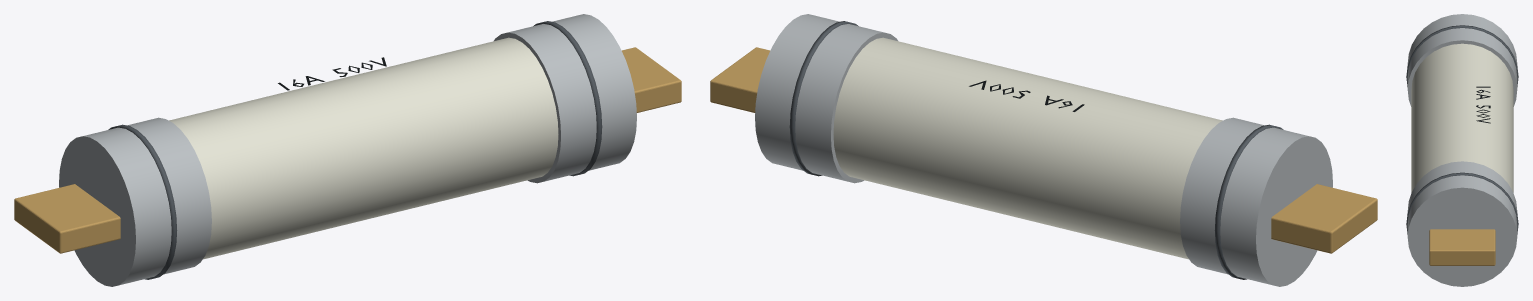
Rendered from fuse.glb.
3 views of the same model, side by side, from view 1: azimuth 30°, elevation 25°; view 2: azimuth 150°, elevation 25°; view 3: azimuth 270°, elevation 25° (orthographic). The views are drawn at different scales.
Visible parts, largest first — view 1: fuse; view 2: fuse; view 3: fuse.
Boxes of the visible parts, <box> form: fuse: <box>14,14,681,286</box>; fuse: <box>710,14,1377,286</box>; fuse: <box>1406,14,1518,286</box>.
Bounding box in the file's own units: 0.41 × 0.09 × 0.09.
